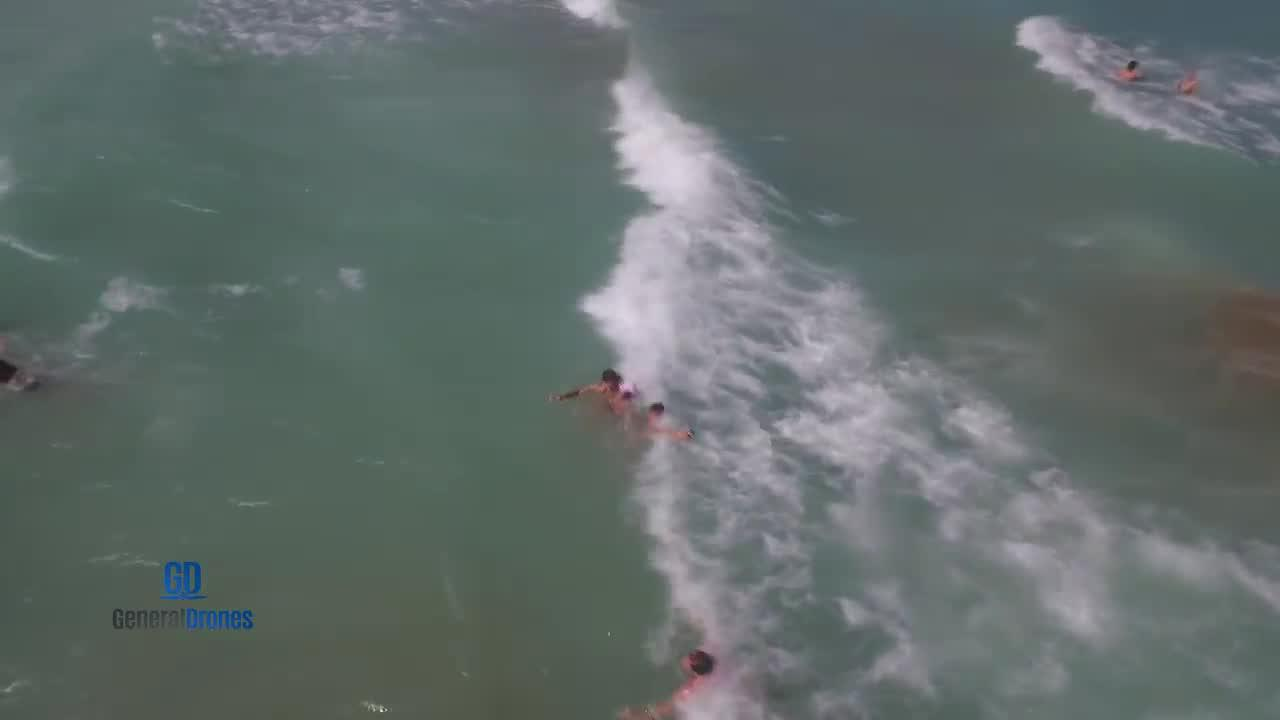human: (628, 614, 760, 710), (543, 367, 646, 418), (637, 401, 709, 449), (1166, 63, 1215, 103), (1104, 49, 1150, 87)
